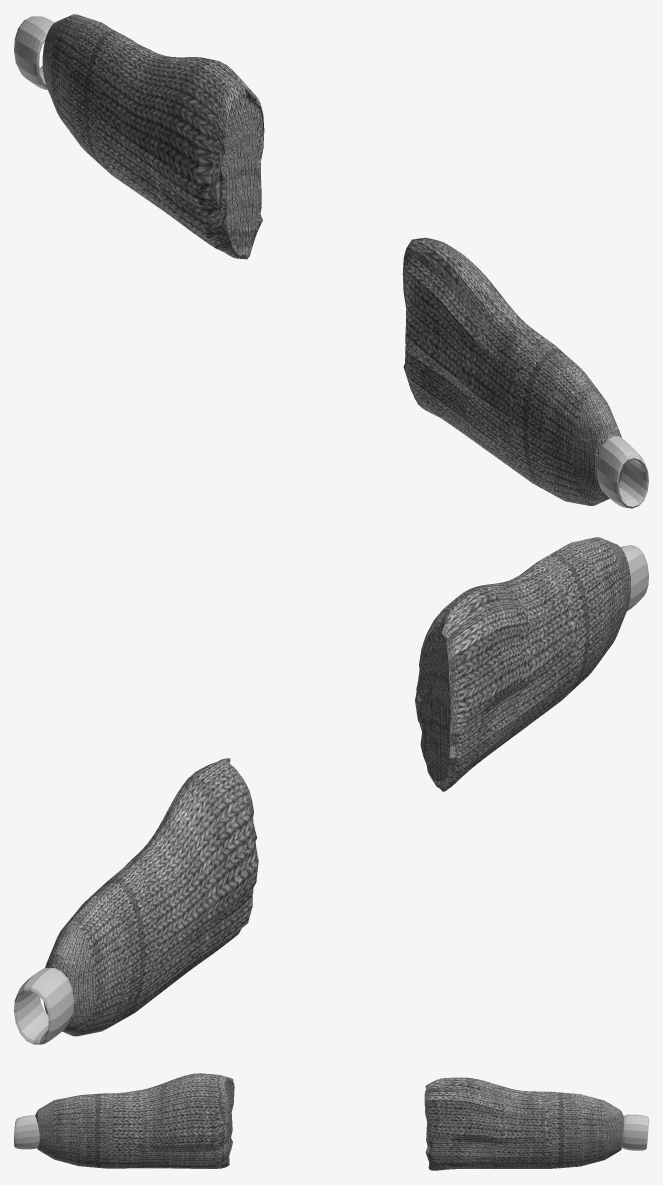
The model's file is puff-sleeve-long.fbx.
3 views of the same model, one above another, from view 1: azimuth 30°, elevation 25°; view 2: azimuth 150°, elevation 25°; view 3: azimuth 270°, elevation 25° (orthographic). The views are drawn at different scales.
Parts seen in each view (by area): view 1: Cylinder, Cylinder.001, Cube.006, Cube.003; view 2: Cylinder.001, Cylinder, Cube.003, Cube.006; view 3: Cylinder.001, Cylinder, Cube.003, Cube.006.
Part boxes in pixels (x1,y1,x2,y2): Cylinder: (42,14,264,259); Cylinder.001: (402,237,623,505); Cube.006: (597,436,648,508); Cube.003: (14,16,53,89); Cylinder.001: (415,537,630,791); Cylinder: (43,758,258,1036); Cube.003: (14,968,74,1044); Cube.006: (620,545,648,610); Cylinder.001: (35,1073,234,1168); Cylinder: (424,1077,623,1170); Cube.003: (621,1114,648,1150); Cube.006: (14,1115,39,1149).
Size of the model in its own units: 26.28 by 74.2 by 456.
